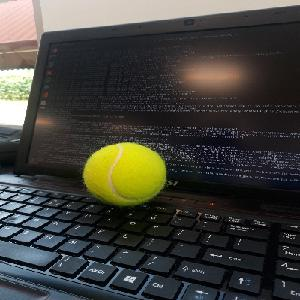Ball: (82, 142, 167, 206)
